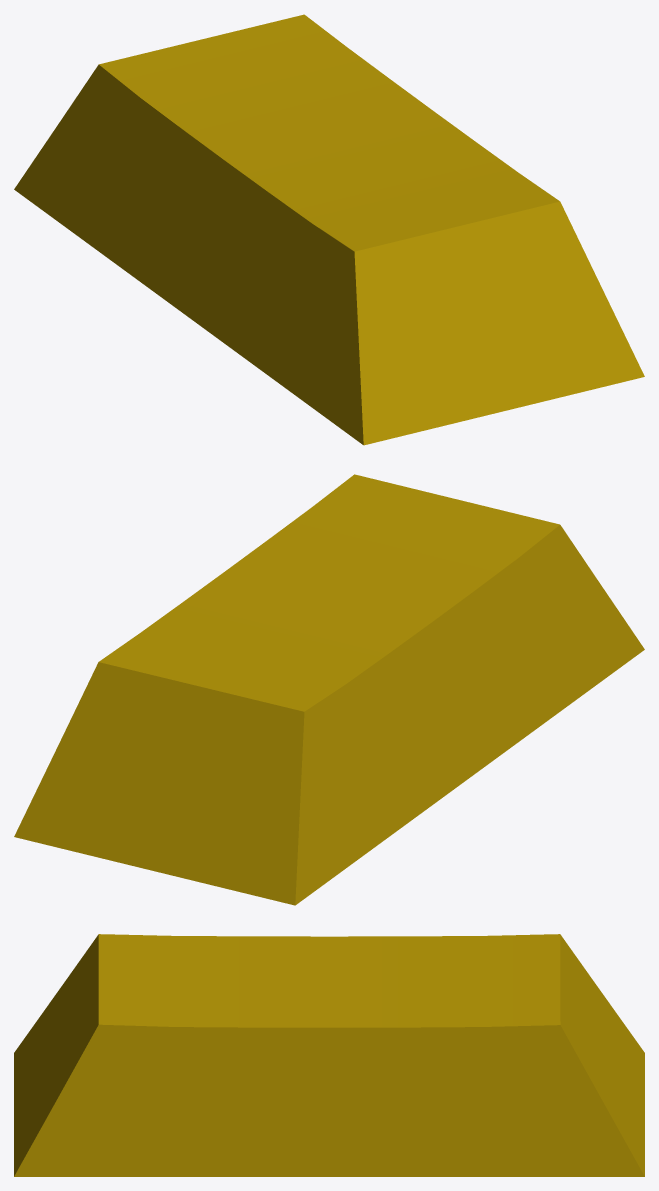
Rendered from gold.fbx.
The picture shows the model from 3 angles, top to bottom: view 1: azimuth 30°, elevation 25°; view 2: azimuth 150°, elevation 25°; view 3: azimuth 270°, elevation 25°; orthographic projection. The views are drawn at different scales.
Parts seen in each view (by area): view 1: pCube1; view 2: pCube1; view 3: pCube1.
Boxes of the visible parts, x1,y1,x2,y2 form: pCube1: (14,14,644,445); pCube1: (14,474,644,905); pCube1: (14,934,644,1176).
Bounding box in the file's own units: 0.4644 × 0.237 × 1.
